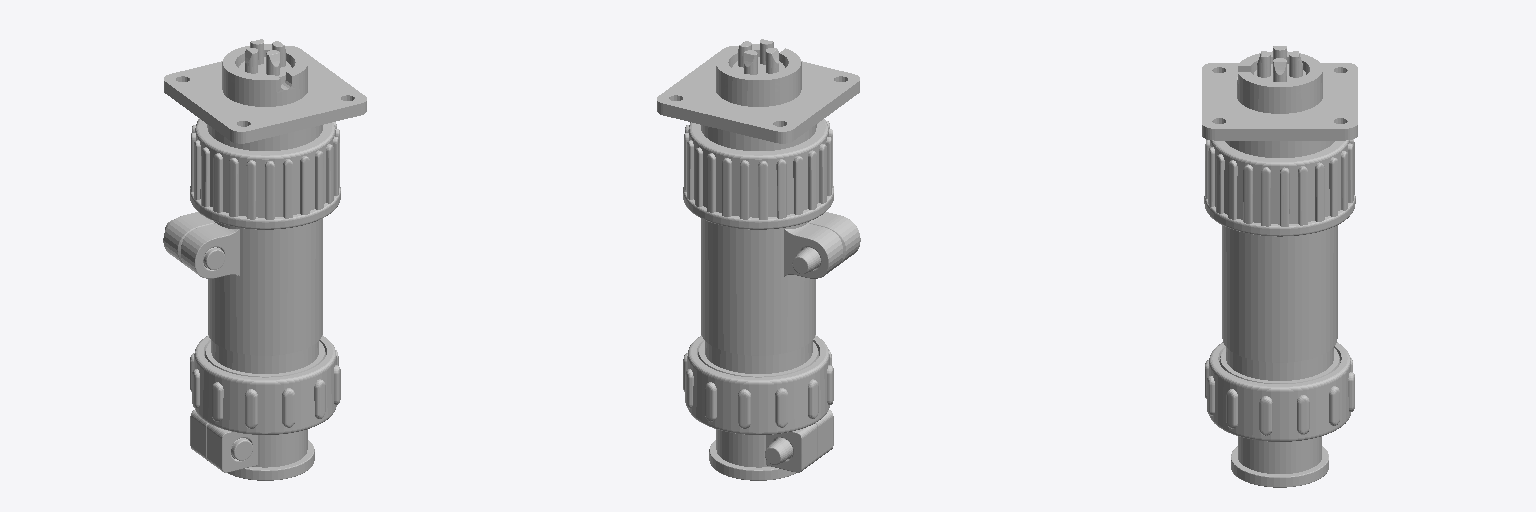
The model's file is ElectricalConnector.obj.
The picture shows the model from 3 angles: view 1: azimuth 30°, elevation 25°; view 2: azimuth 150°, elevation 25°; view 3: azimuth 270°, elevation 25°; orthographic projection.
Parts seen in each view (by area): view 1: 20895_Circular_Electrical_Connector_v1; view 2: 20895_Circular_Electrical_Connector_v1; view 3: 20895_Circular_Electrical_Connector_v1.
Part boxes in pixels (left/top/right/bottom): 20895_Circular_Electrical_Connector_v1: left=163, top=39, right=366, bottom=480; 20895_Circular_Electrical_Connector_v1: left=657, top=39, right=860, bottom=480; 20895_Circular_Electrical_Connector_v1: left=1202, top=46, right=1357, bottom=487.
Size of the model in its own units: 3.76 by 9.63 by 3.3.